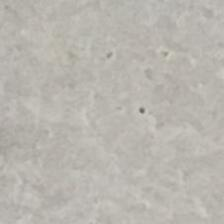Non_Crack: (10, 38, 224, 190)
